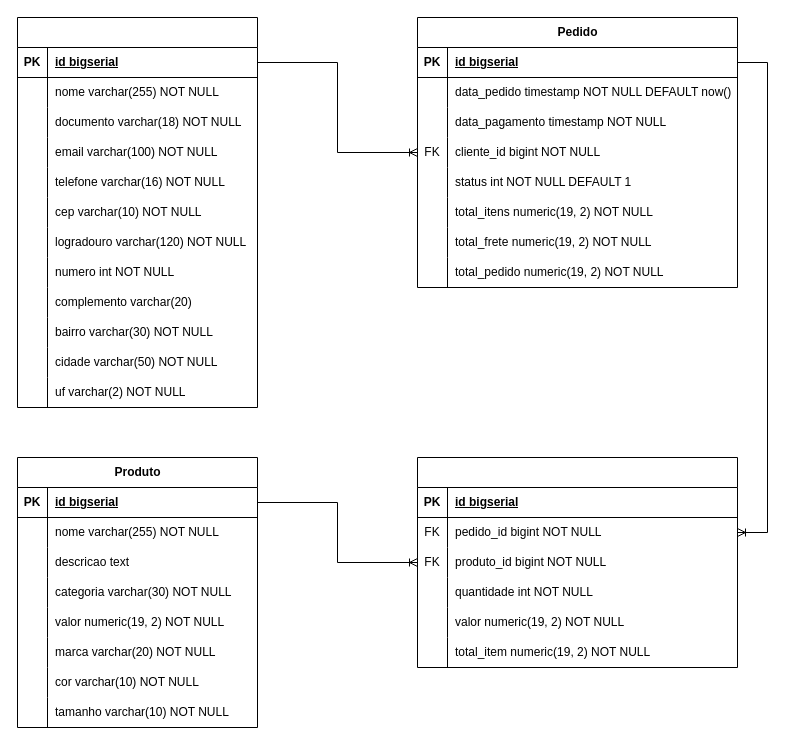
Image size: 793x745. Some labels were removed from this diagram. The shapes that lost their labels are listed below. From the top down, each one's box as (x1, y1, x2, y2) in pixels, then its label:
(16, 16, 258, 408): Cliente
(416, 456, 738, 668): Pedido_Item
